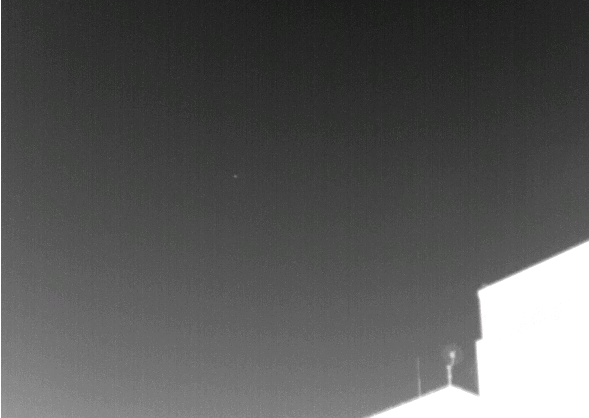dim target: (233, 174, 238, 179)
